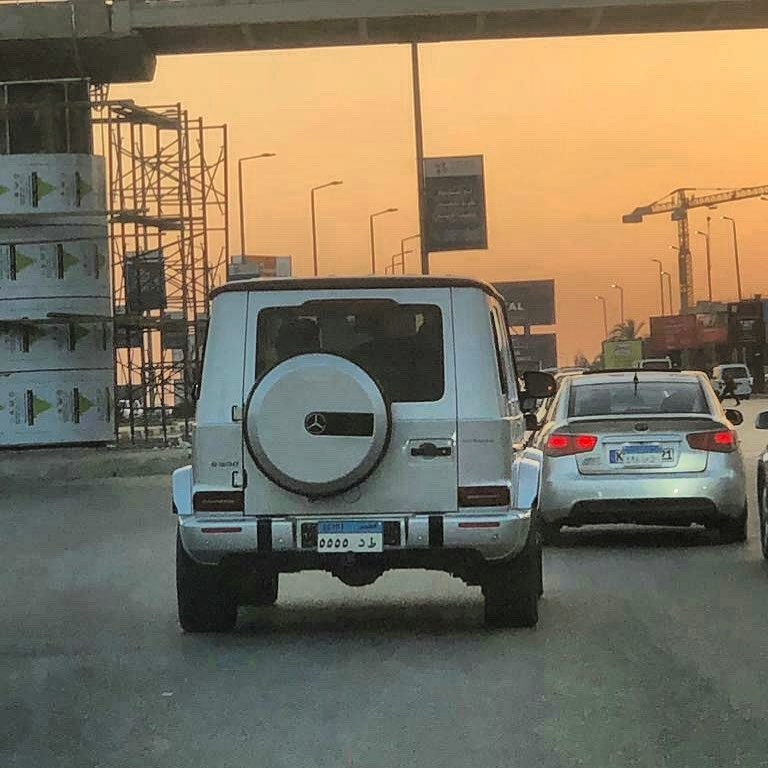carpl: (318, 528, 390, 556)
